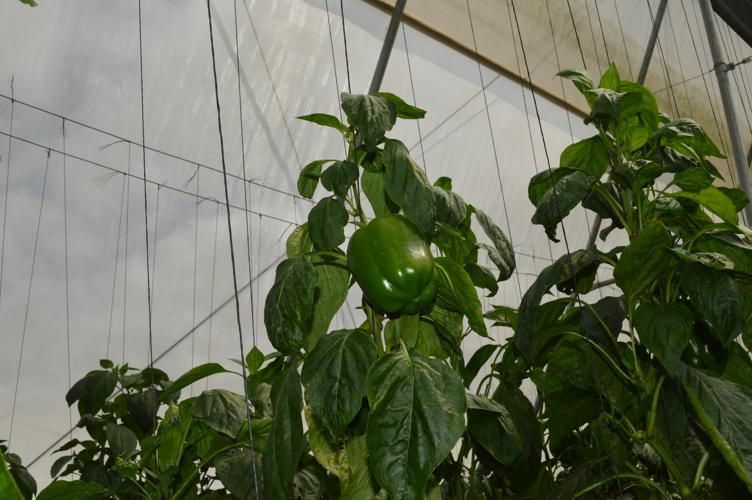BellPepper: (345, 216, 439, 313)
